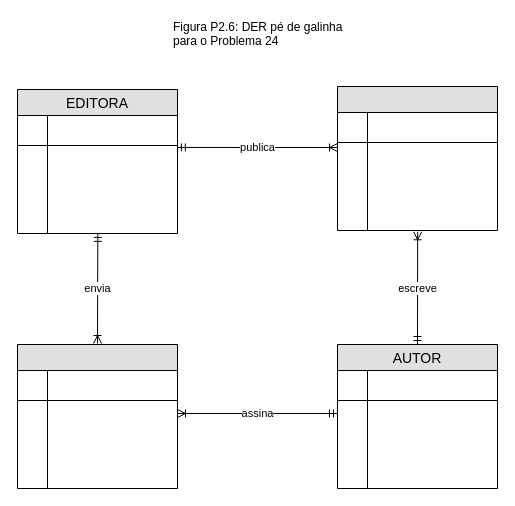
Some shapes in this 515 by 506 pixel diagram are drawn without their labels. The centre of each missing label's shape, as x and y in pixels:
"CONTRATO" goes at (x=97, y=416).
"LIVRO" goes at (x=417, y=158).
